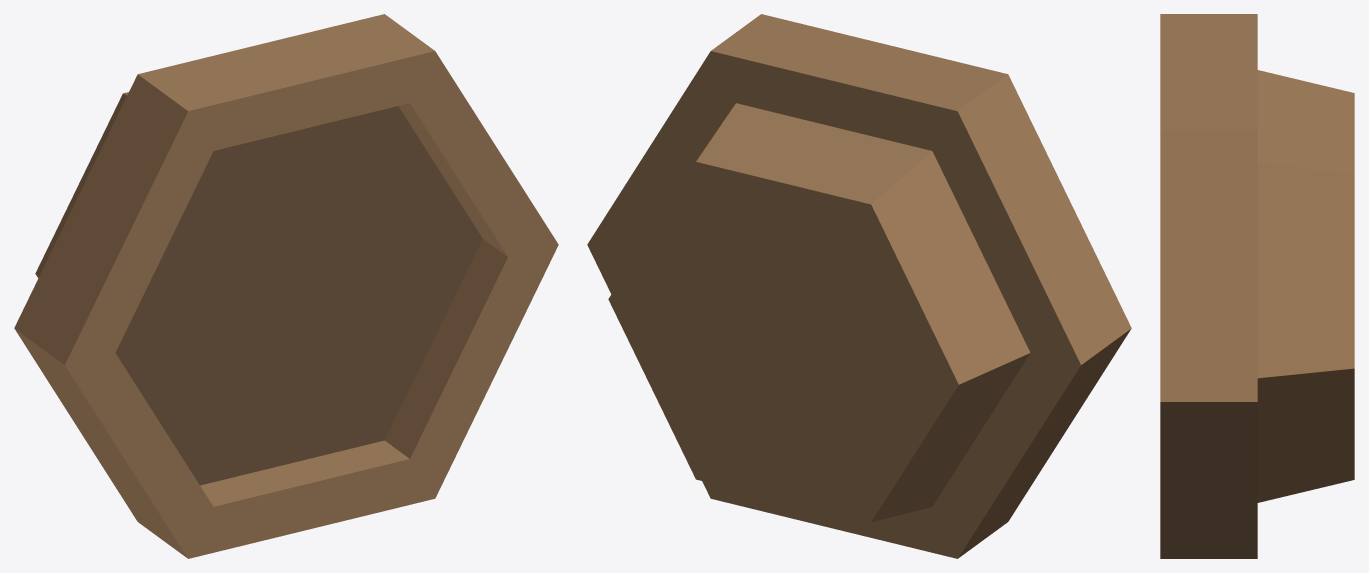
The model's file is planter-pot-large.obj.
3 views of the same model, side by side, from view 1: azimuth 30°, elevation 25°; view 2: azimuth 150°, elevation 25°; view 3: azimuth 270°, elevation 25° (orthographic). The views are drawn at different scales.
Parts seen in each view (by area): view 1: planter-pot-large; view 2: planter-pot-large; view 3: planter-pot-large.
Boxes of the visible parts, x1=… form: planter-pot-large: x1=14, y1=14, x2=558, y2=558; planter-pot-large: x1=587, y1=14, x2=1131, y2=558; planter-pot-large: x1=1160, y1=14, x2=1354, y2=558.
Bounding box in the file's own units: 67.63 × 58.57 × 24.
